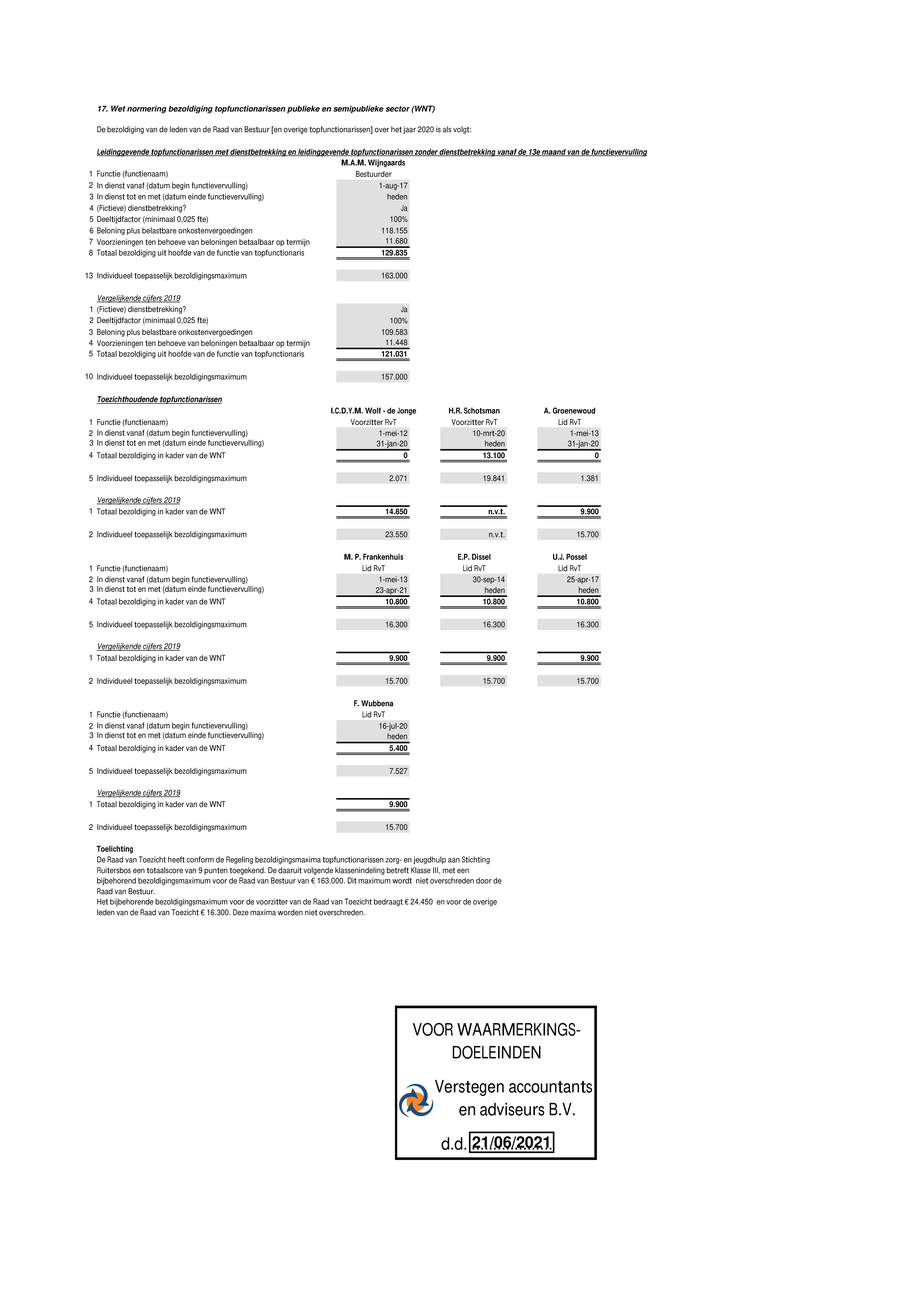coulmn: (82, 155, 314, 385), (82, 395, 266, 546), (86, 551, 270, 693), (87, 697, 269, 838), (335, 157, 412, 381), (328, 406, 418, 539), (333, 552, 415, 688), (336, 698, 414, 835), (437, 406, 512, 542), (438, 553, 511, 689), (533, 553, 604, 689), (535, 406, 605, 542)
